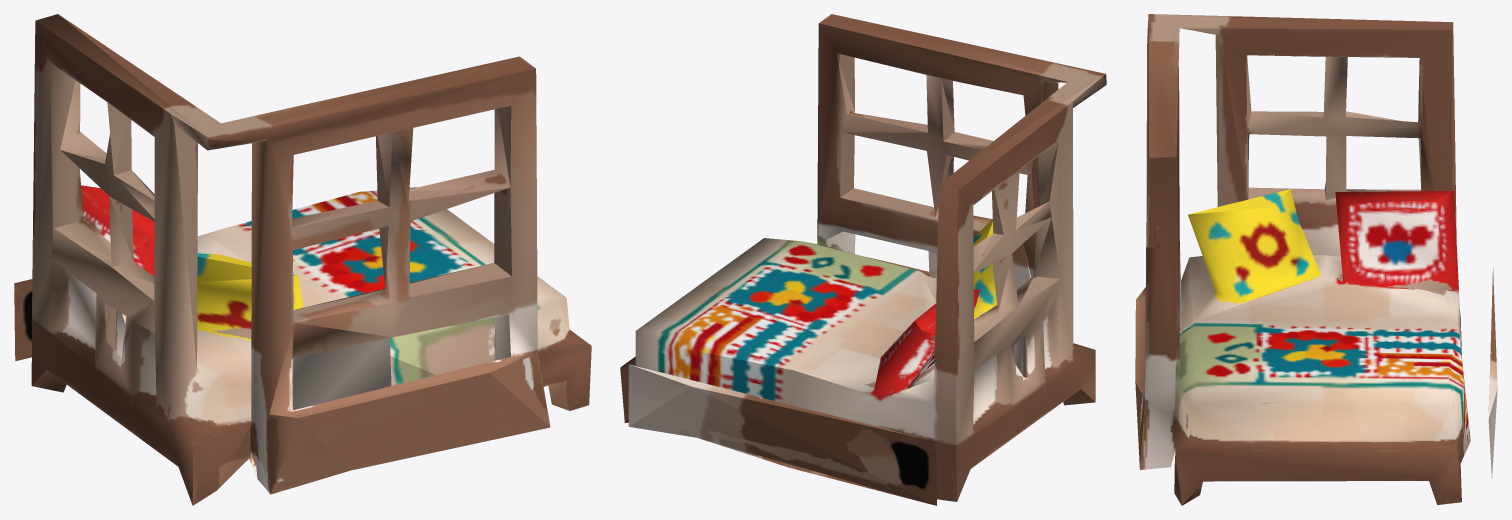
Rendered from window-daybed.glb.
3 renders of one model, left to right at view 1: azimuth 30°, elevation 25°; view 2: azimuth 150°, elevation 25°; view 3: azimuth 270°, elevation 25°, orthographic. The views are drawn at different scales.
Visible parts, largest first — view 1: geometry_0.001; view 2: geometry_0.001; view 3: geometry_0.001.
Boxes of the visible parts, box(x1,y1,x2,y2) form: geometry_0.001: box(14, 14, 591, 505); geometry_0.001: box(620, 14, 1106, 505); geometry_0.001: box(1135, 14, 1497, 505).
Size of the model in its own units: 0.9994 by 0.8983 by 0.9056.
1 material, 1 textured.
